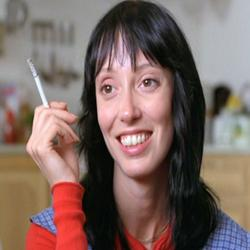smoking: (24, 56, 81, 188)
